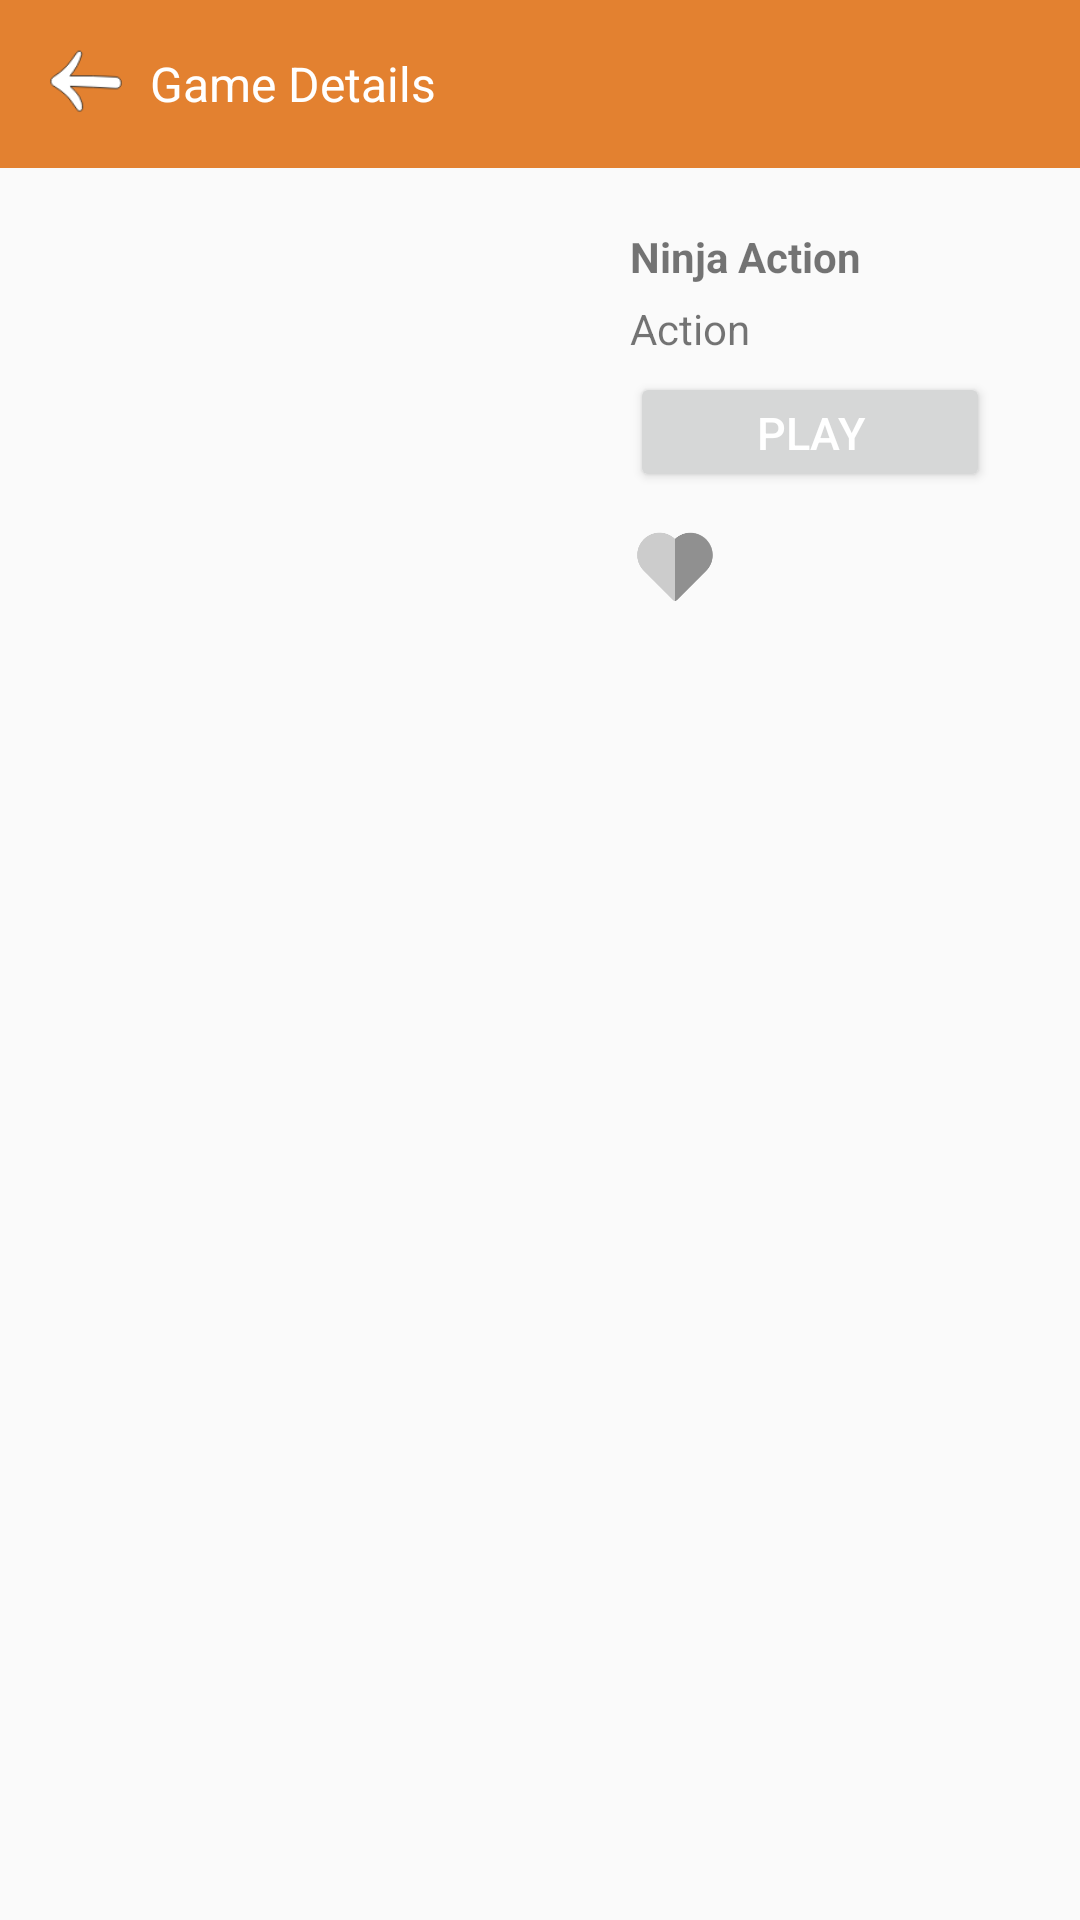

Locate icon controls on the screen. Image size 1080px×1920px, boxes as (x1, y1, x2, y2).
back: (50, 50, 122, 112)
fav of: (637, 533, 713, 601)
